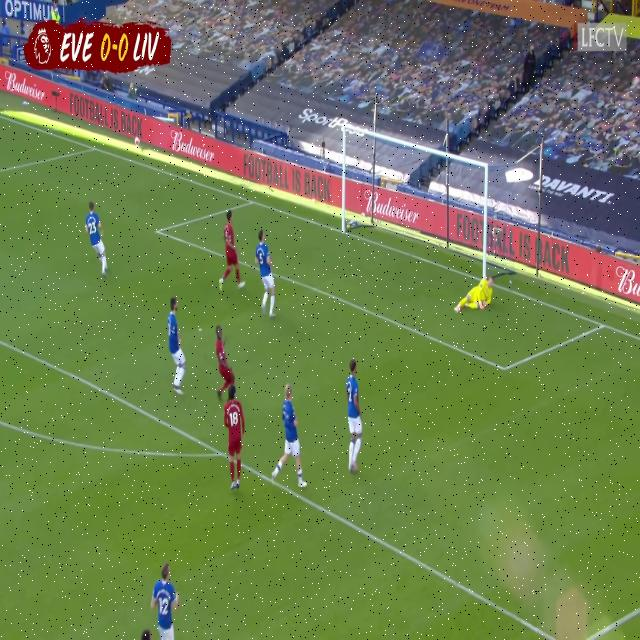GoalKeeper: (456, 275, 496, 313)
TEAM 1: (224, 388, 246, 493), (218, 210, 246, 290), (213, 322, 240, 404)
TEAM 2: (272, 384, 307, 488), (150, 564, 186, 640), (346, 359, 366, 477), (255, 231, 279, 321), (166, 296, 187, 398), (86, 203, 110, 281)
